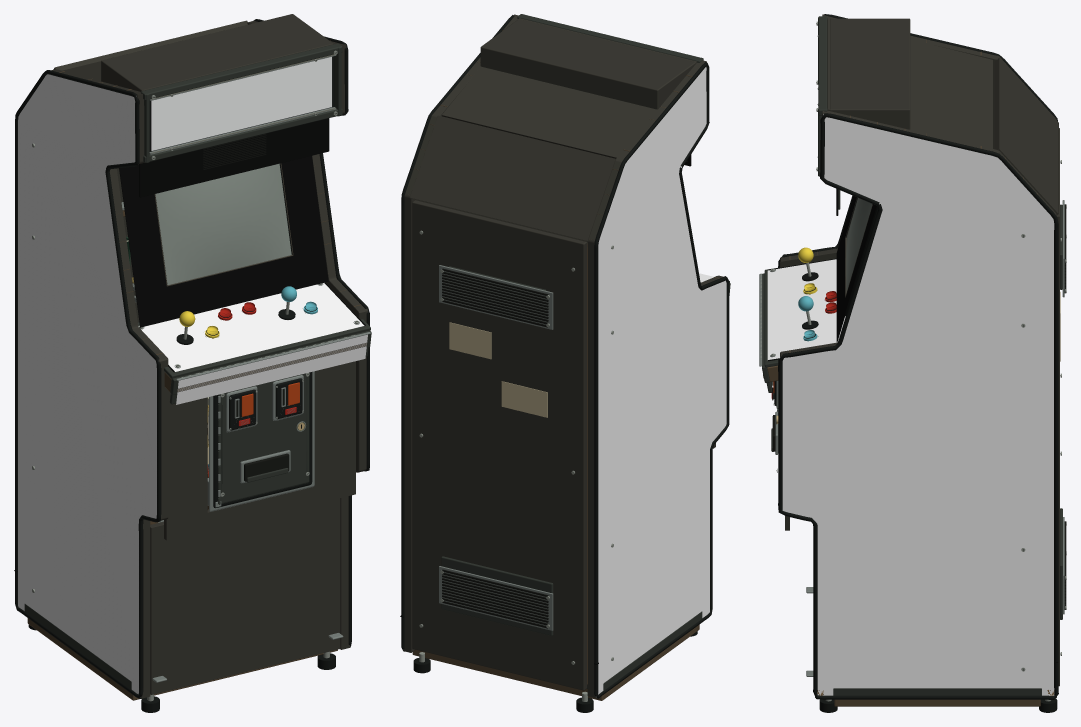
The model's file is joust-cabinet.glb.
The picture shows the model from 3 angles, left to right: view 1: azimuth 30°, elevation 25°; view 2: azimuth 150°, elevation 25°; view 3: azimuth 270°, elevation 25°; orthographic projection. The views are drawn at different scales.
Visible parts, largest first — view 1: left_panel_print, chassis, marquee_mount, monitor_bezel, coin_fascia, crt_screen, coin_hinge, left_panel, marquee_print, control_print, speaker_cover, right_panel (+4 smaller); view 2: rear_service, left_panel_print, back_panel, chassis, marquee_mount, left_panel, rear_vents, right_panel, inspection_label, back_label; view 3: right_panel_print, chassis, marquee_mount, right_panel, back_panel, control_print, left_panel, controls_hinge, monitor_bezel, rear_service, crt_screen, rear_vents (+1 smaller).
Part boxes in pixels (x1,y1,x2,y2): left_panel_print: [18, 74, 156, 697]; chassis: [24, 44, 343, 712]; marquee_mount: [101, 14, 342, 162]; monitor_bezel: [119, 156, 328, 327]; coin_fascia: [164, 361, 355, 540]; crt_screen: [155, 163, 291, 284]; coin_hinge: [209, 371, 314, 511]; left_panel: [14, 69, 168, 698]; marquee_print: [151, 57, 331, 150]; control_print: [138, 283, 364, 371]; speaker_cover: [139, 118, 329, 197]; right_panel: [247, 19, 369, 649]; rear_service: [412, 200, 587, 690]; left_panel_print: [598, 67, 726, 694]; back_panel: [410, 115, 615, 242]; chassis: [412, 18, 702, 712]; marquee_mount: [480, 14, 703, 109]; left_panel: [587, 60, 729, 698]; rear_vents: [439, 265, 553, 630]; right_panel: [400, 14, 518, 652]; inspection_label: [501, 381, 547, 417]; back_label: [449, 322, 491, 359]; right_panel_print: [782, 114, 1054, 695]; chassis: [806, 18, 1057, 712]; marquee_mount: [816, 16, 910, 176]; right_panel: [778, 111, 1058, 699]; back_panel: [994, 58, 1058, 214]; control_print: [767, 259, 845, 359]; left_panel: [778, 14, 1057, 267]; controls_hinge: [759, 258, 836, 392]; monitor_bezel: [836, 196, 877, 342]; rear_service: [1057, 128, 1062, 686]; crt_screen: [846, 198, 872, 291]; rear_vents: [1062, 200, 1066, 614].
Size of the model in its own units: 1.22 by 3.4 by 1.56.
